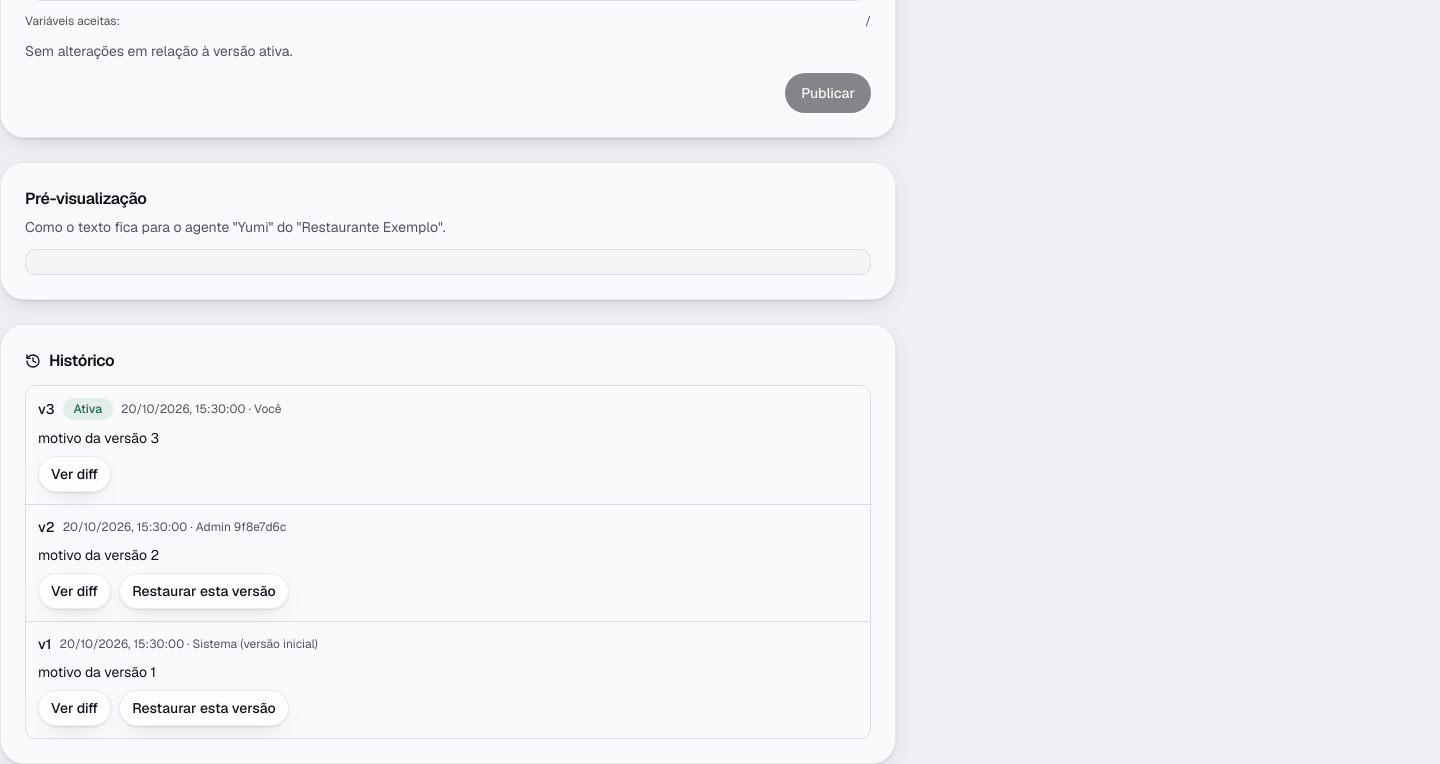
Agente de IA — histórico › Ver diff mostra a versão contra a ativa
(page scrolled)
Step 1. Click the button "Ver diff" below "Sistema (versão inicial)" → (75, 708), box [38,690,111,726]
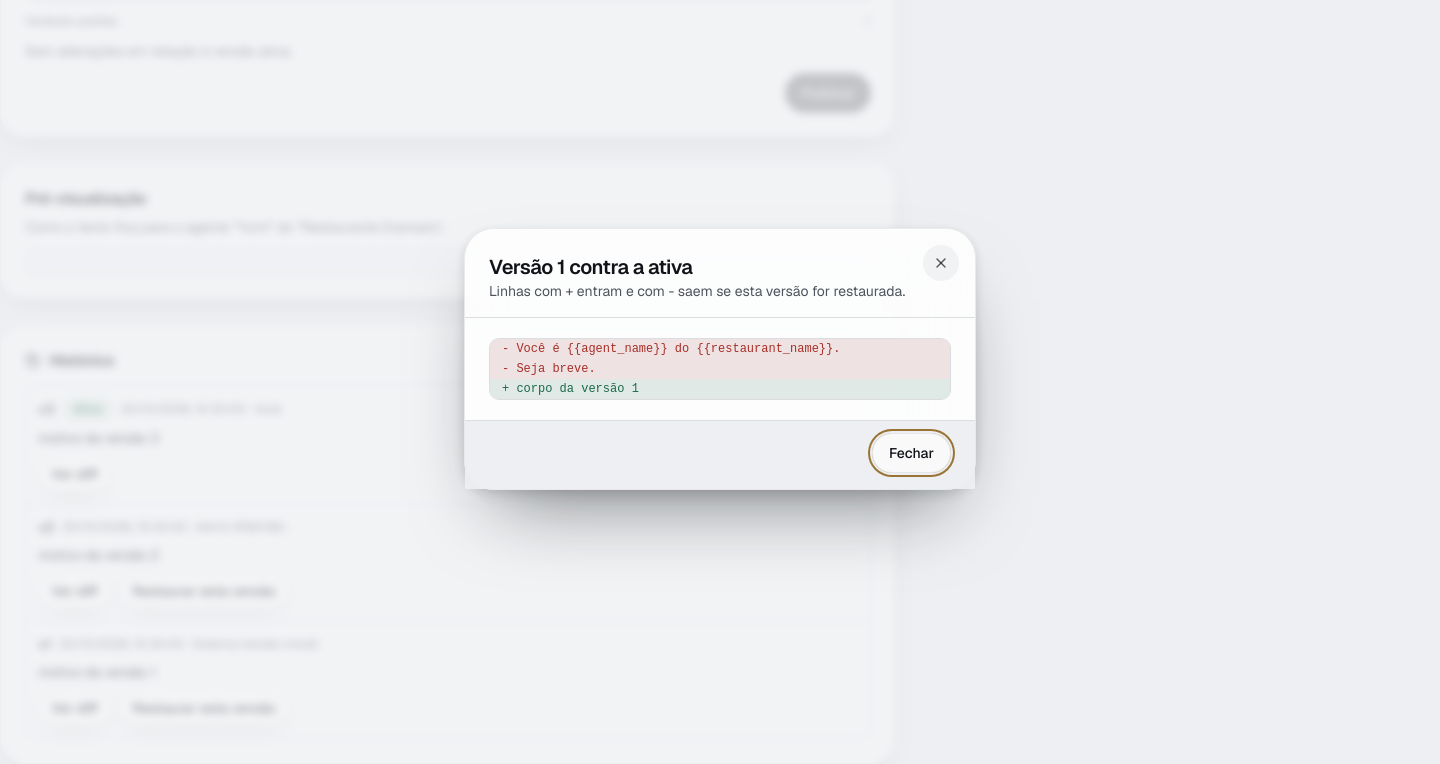
Expected: the text "- Você é {{agent_name}} do {{restaurant_name}}." is shown, [490,339,950,359]
Expected: the text "+ corpo da versão 1" is shown, [490,379,950,399]
